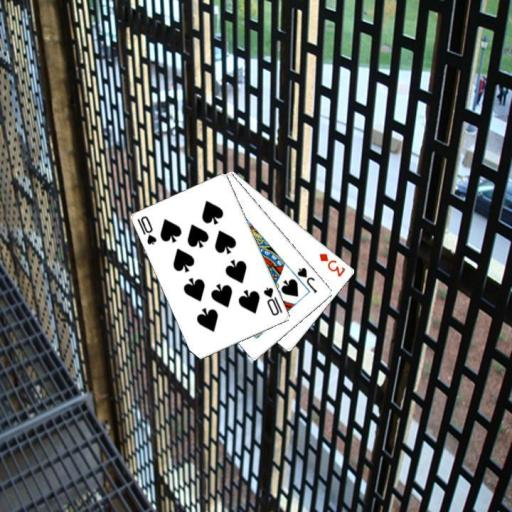10S: (261, 284, 285, 317), (135, 213, 159, 246)
3D: (316, 250, 347, 279)
JS: (294, 264, 319, 294)
